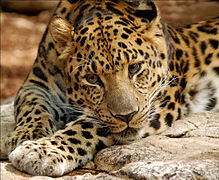amur_leopard: (48, 17, 184, 142)
